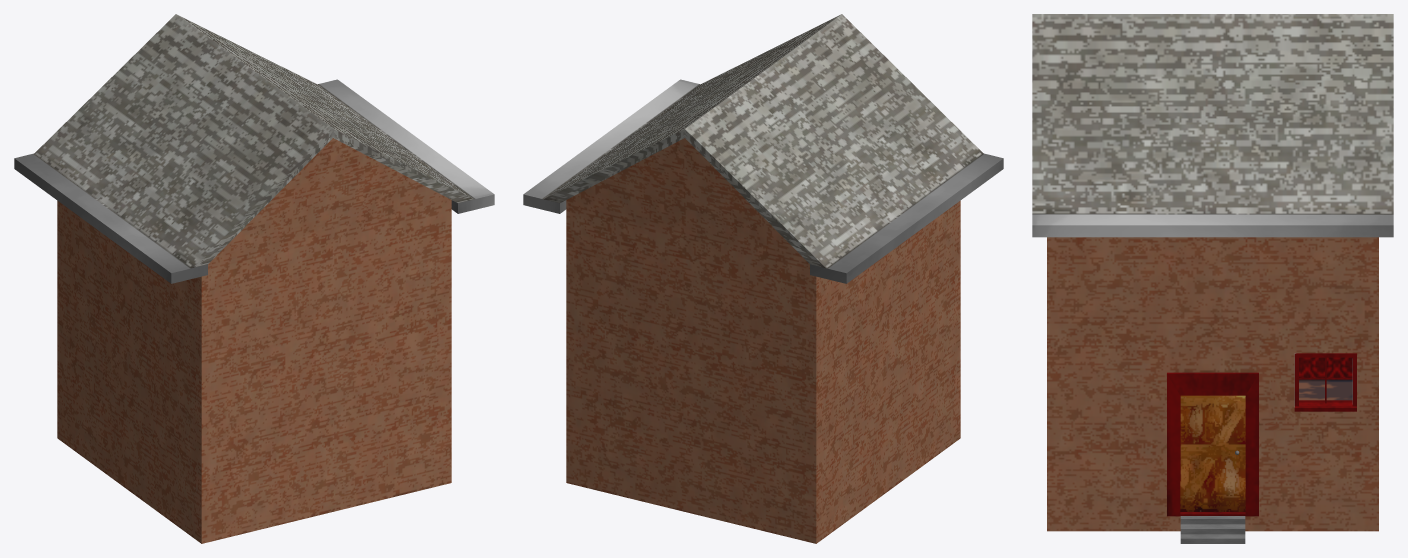
File: house.fbx
3 views of the same model, side by side, from view 1: azimuth 30°, elevation 25°; view 2: azimuth 150°, elevation 25°; view 3: azimuth 270°, elevation 25° (orthographic). The views are drawn at different scales.
Parts seen in each view (by area): view 1: house; view 2: house; view 3: house, door, window_glass.
Part boxes in pixels (left/top/right/bottom): house: left=14, top=14, right=494, bottom=543; house: left=523, top=14, right=1003, bottom=543; house: left=1032, top=14, right=1393, bottom=543; door: left=1180, top=395, right=1245, bottom=511; window_glass: left=1299, top=358, right=1352, bottom=401.
Size of the model in its own units: 6.9 by 7.94 by 5.81.
